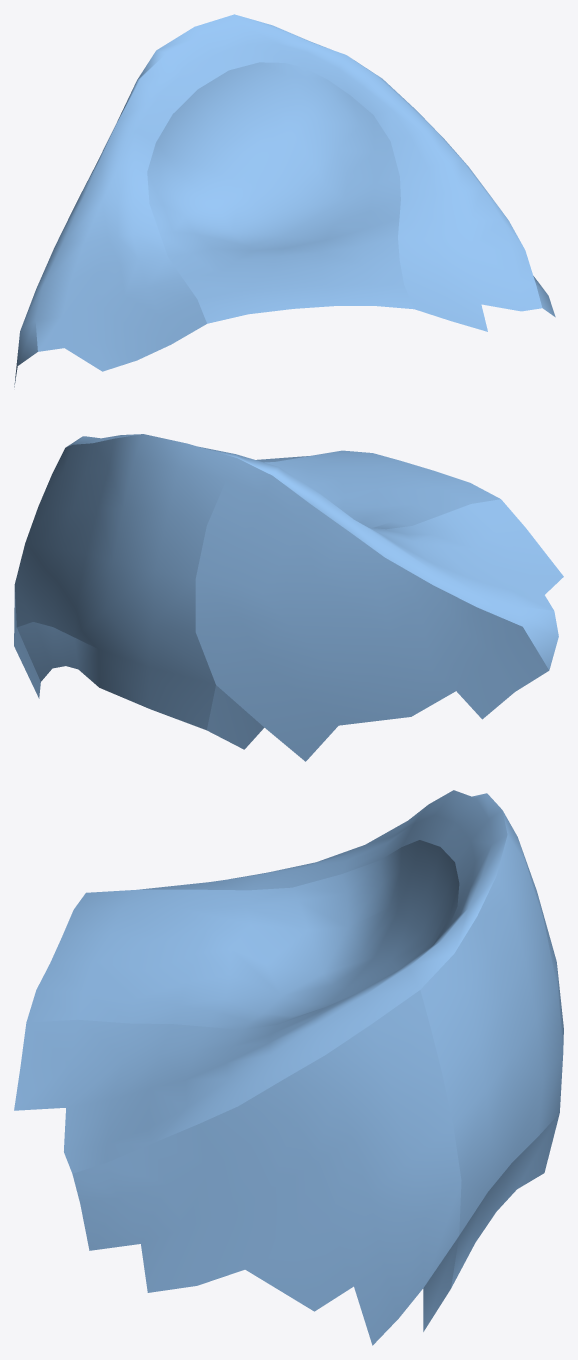
Rendered from body_LeftShoulder.glb.
3 renders of one model, top to bottom at view 1: azimuth 30°, elevation 25°; view 2: azimuth 150°, elevation 25°; view 3: azimuth 270°, elevation 25°, orthographic. The views are drawn at different scales.
Visible parts, largest first — view 1: mixamorig:LeftShoulder; view 2: mixamorig:LeftShoulder; view 3: mixamorig:LeftShoulder.
Part boxes in pixels (bbox=[...]): mixamorig:LeftShoulder: bbox=[14, 14, 555, 387]; mixamorig:LeftShoulder: bbox=[14, 434, 563, 761]; mixamorig:LeftShoulder: bbox=[14, 790, 563, 1345].
Bounding box in the file's own units: 0.2324 × 0.1445 × 0.1749.
